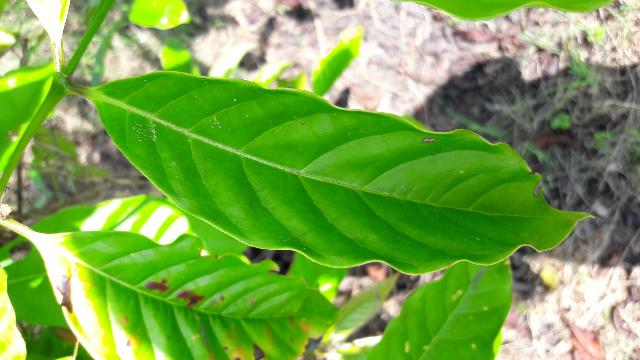healthy: (93, 70, 585, 272)
